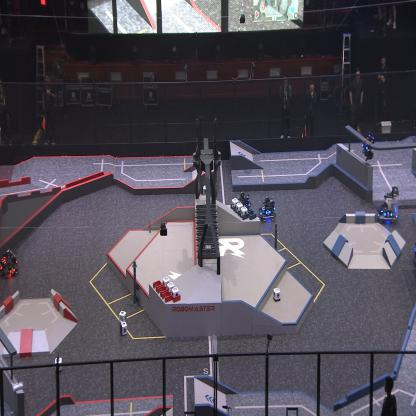car: (376, 184, 400, 224), (0, 246, 20, 279), (257, 194, 276, 222), (233, 188, 252, 216)
